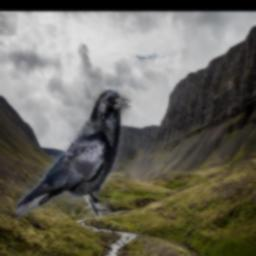Crow: (14, 90, 130, 219)
